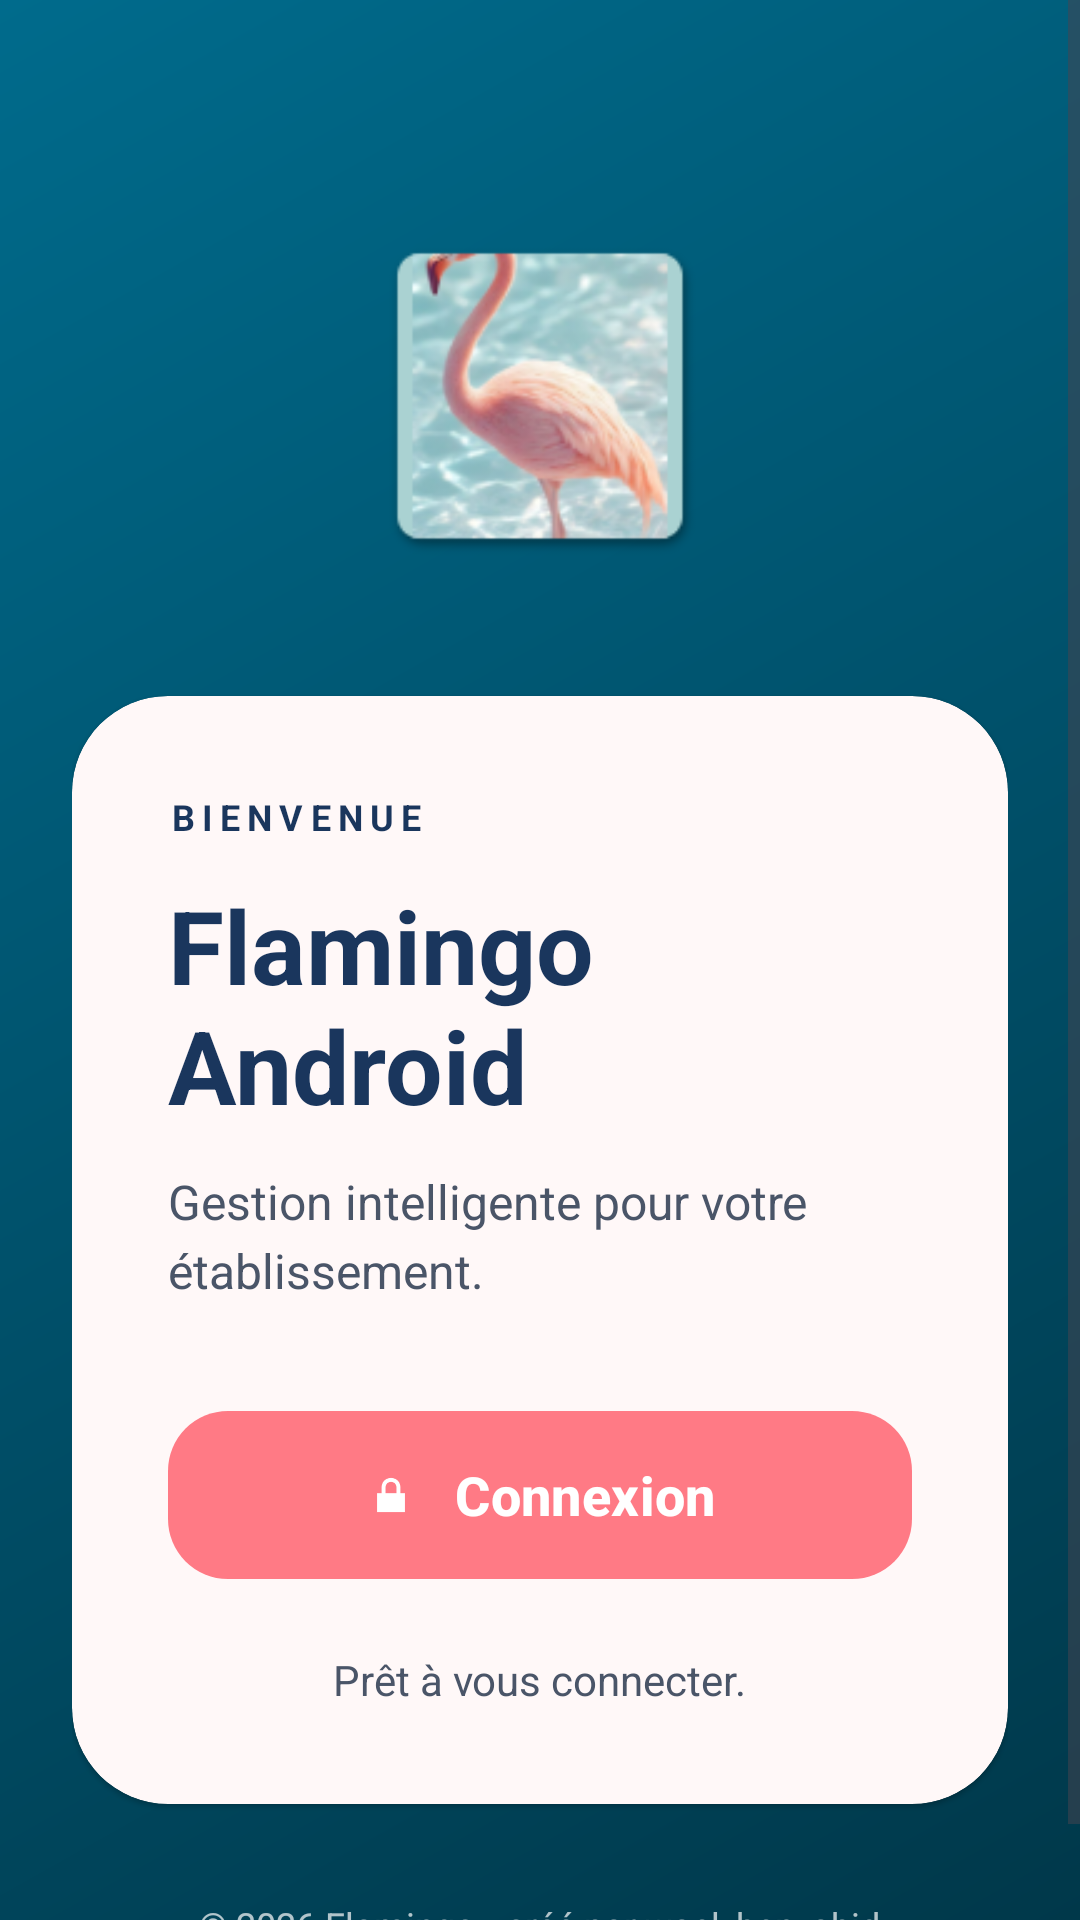

Icon bounding boxes for this 1080×1920 phone screenshot, format Rect(x1, y1, x2, y2):
flamingo: Rect(397, 252, 687, 546)
